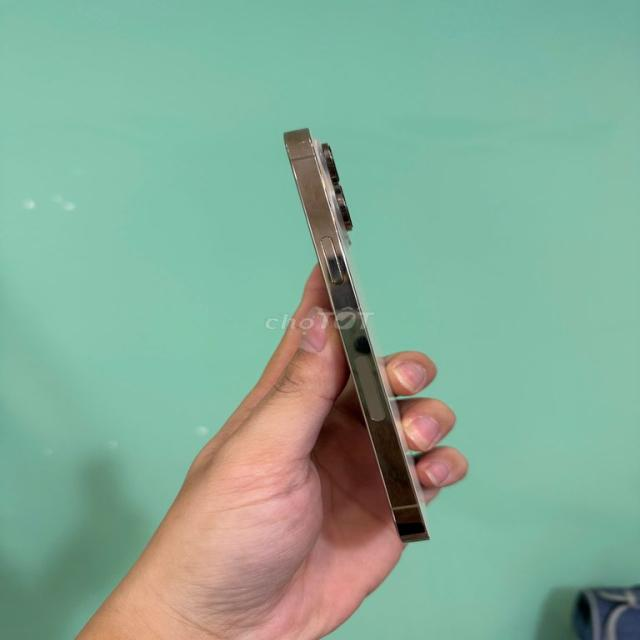scratch: (285, 132, 339, 151)
